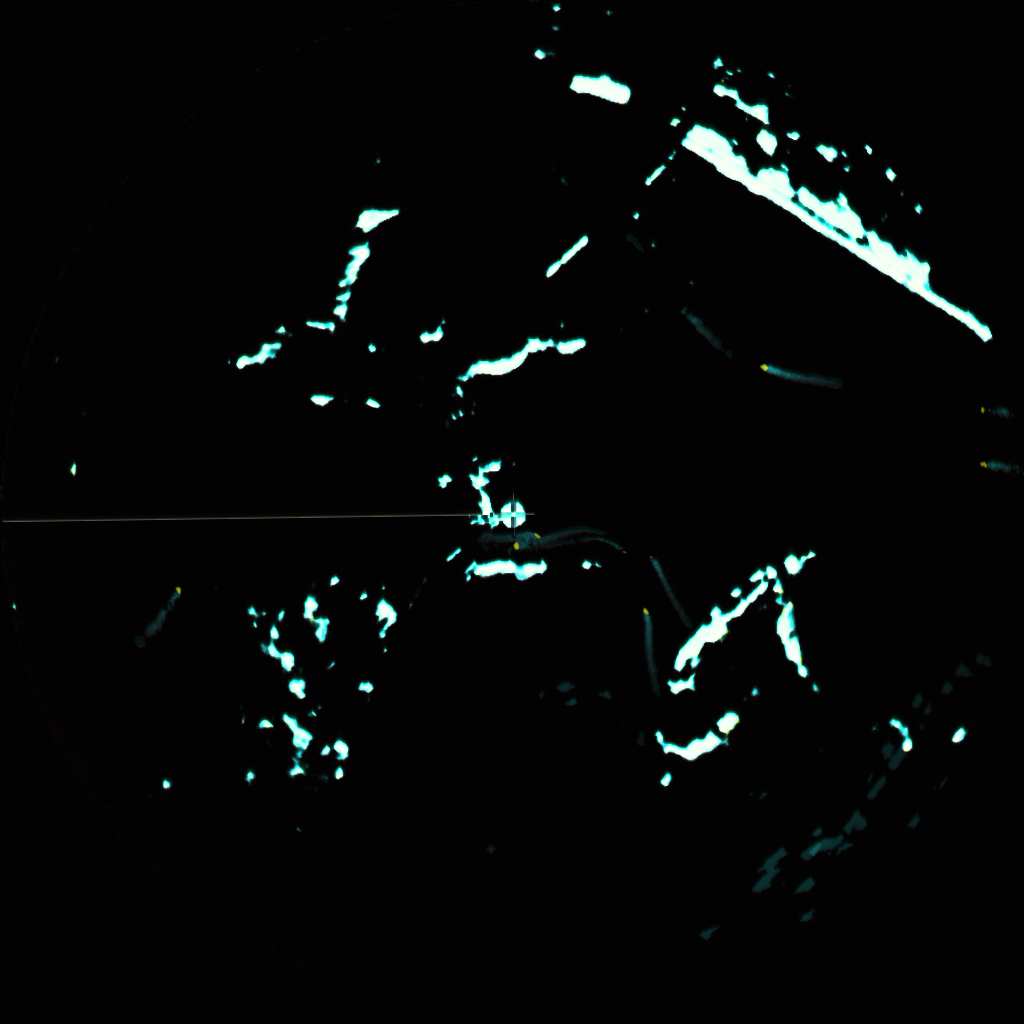B: (141, 581, 185, 642), (646, 549, 679, 601), (758, 360, 826, 385), (640, 604, 660, 668), (512, 535, 570, 551), (483, 529, 545, 542), (976, 402, 1014, 422), (977, 458, 1015, 473)
